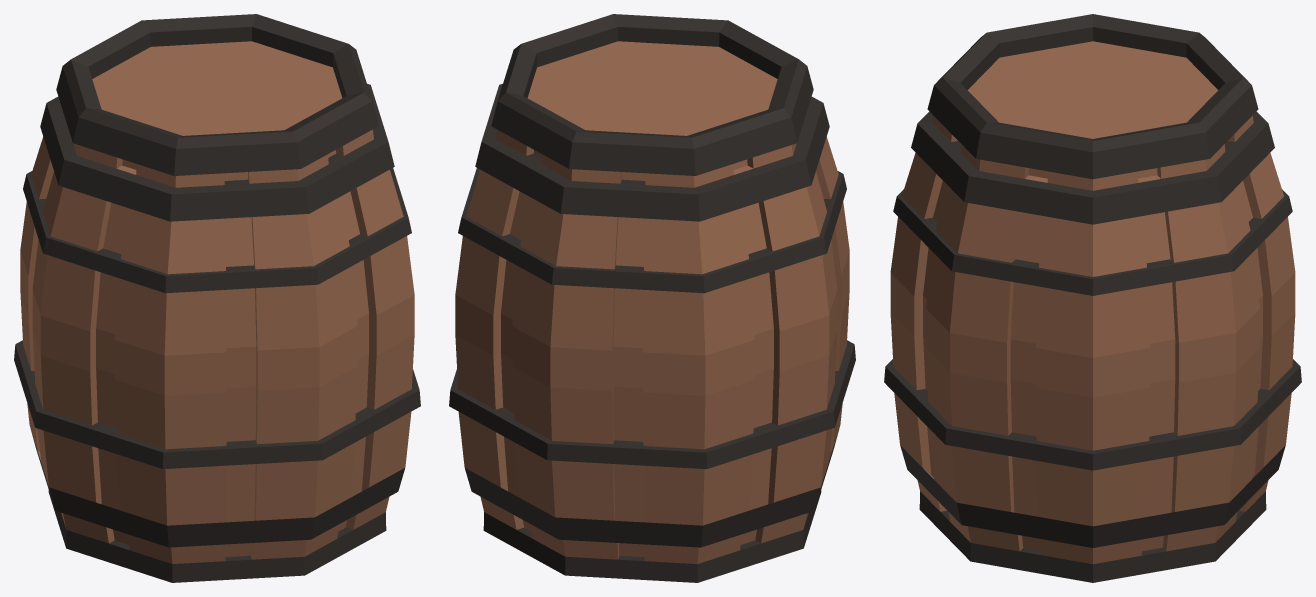
Rendered from barrel.fbx.
The picture shows the model from 3 angles, left to right: view 1: azimuth 30°, elevation 25°; view 2: azimuth 150°, elevation 25°; view 3: azimuth 270°, elevation 25°; orthographic projection.
Parts seen in each view (by area): view 1: barrel; view 2: barrel; view 3: barrel.
Boxes of the visible parts, x1,y1,x2,y2 form: barrel: [14, 14, 420, 582]; barrel: [449, 14, 855, 582]; barrel: [884, 14, 1301, 582].
Bounding box in the file's own units: 221 × 252 × 221.
Materials: 1 (1 with a texture image).
